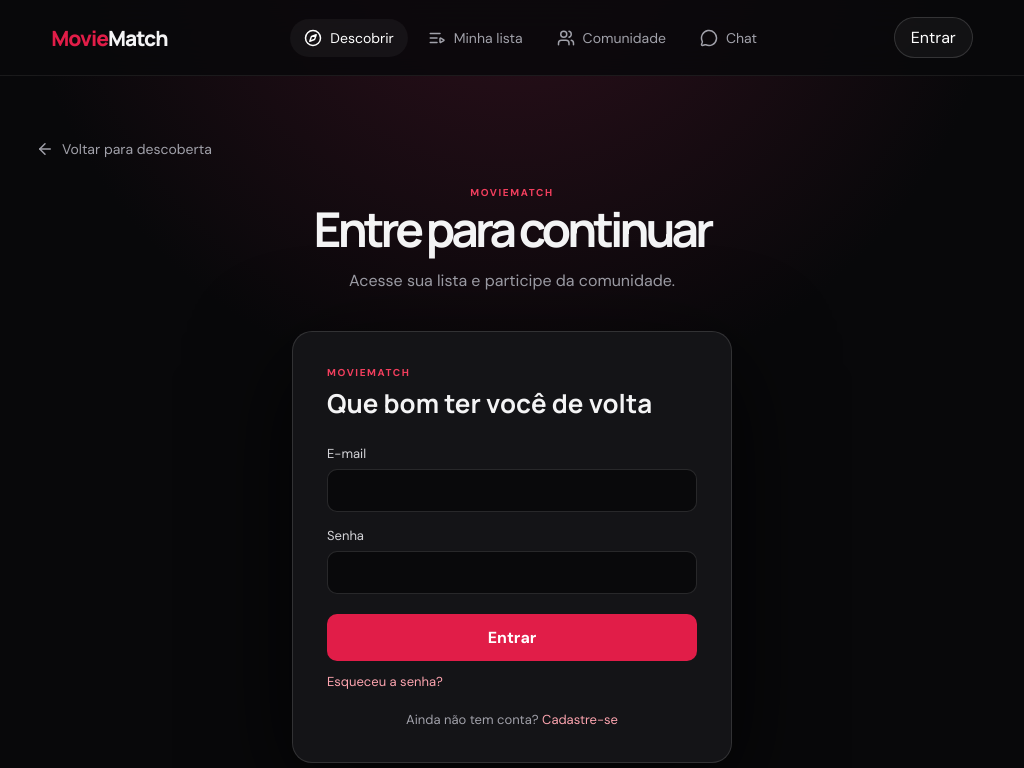
Test: MovieMatch home › does not redirect login to an external return target
In the field labelled "E-mail": (512, 490) top-left (327, 469), bottom-right (697, 512), type "alice@example.com"
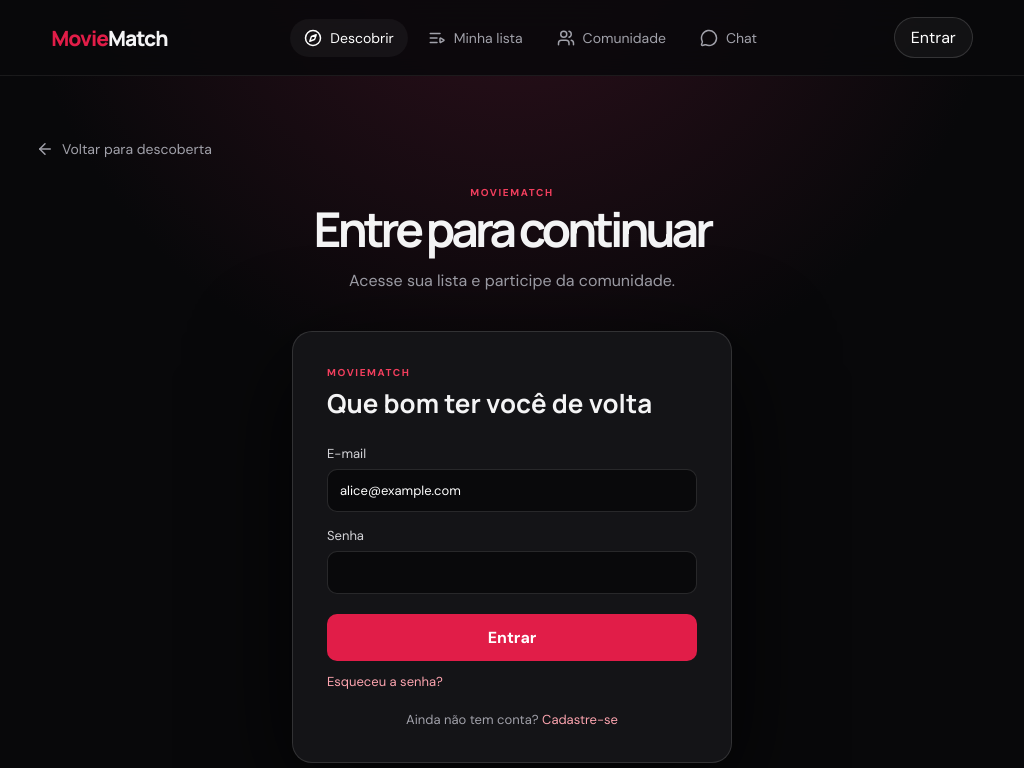
In the password field labelled "Senha": (512, 572) top-left (327, 551), bottom-right (697, 594), type "correct-password"
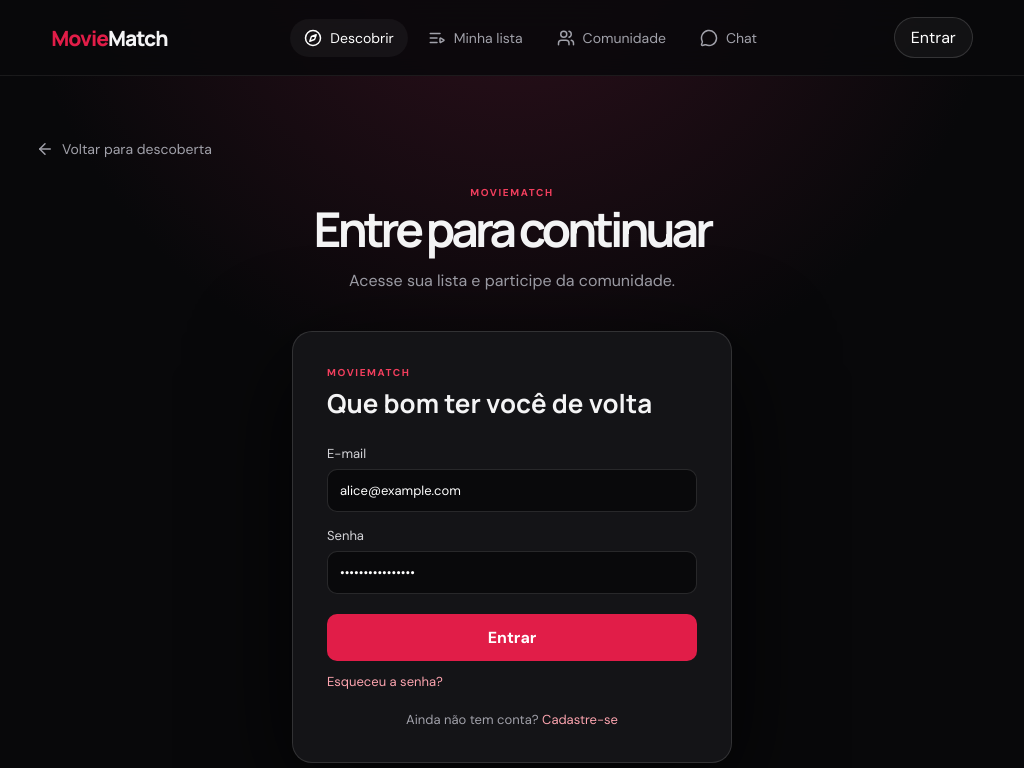
Click the button "Entrar" below "E-mail": click(512, 638) top-left (327, 614), bottom-right (697, 661)
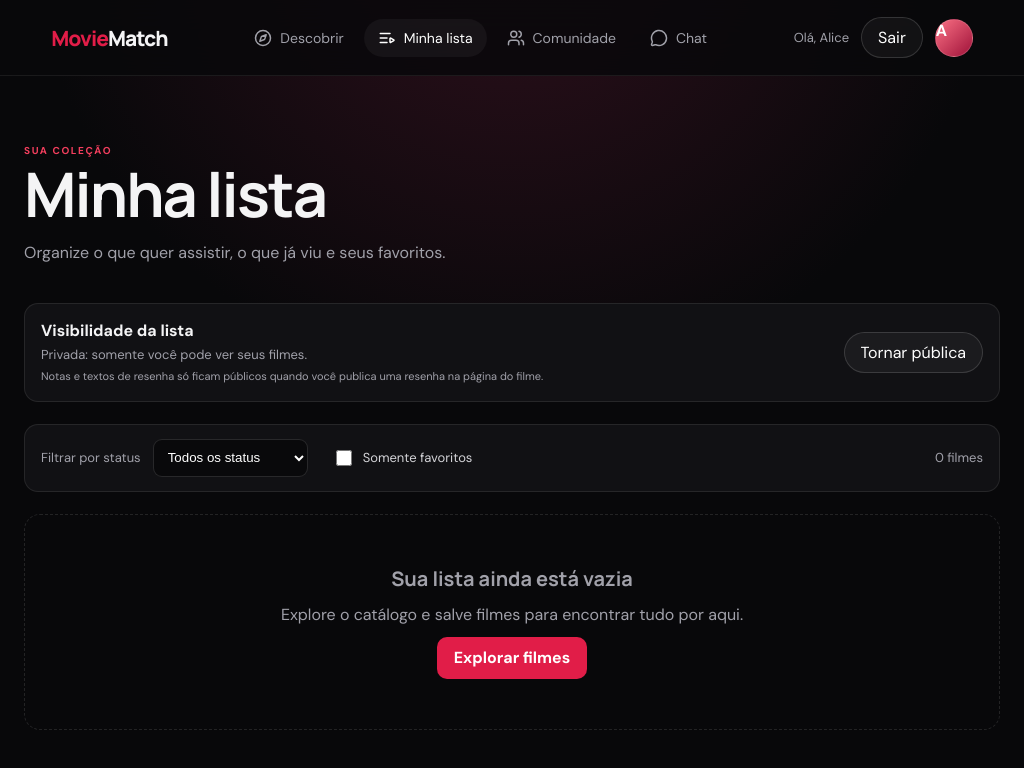
Expected: the heading "Minha lista" is shown, top-left (24, 152), bottom-right (326, 235)
